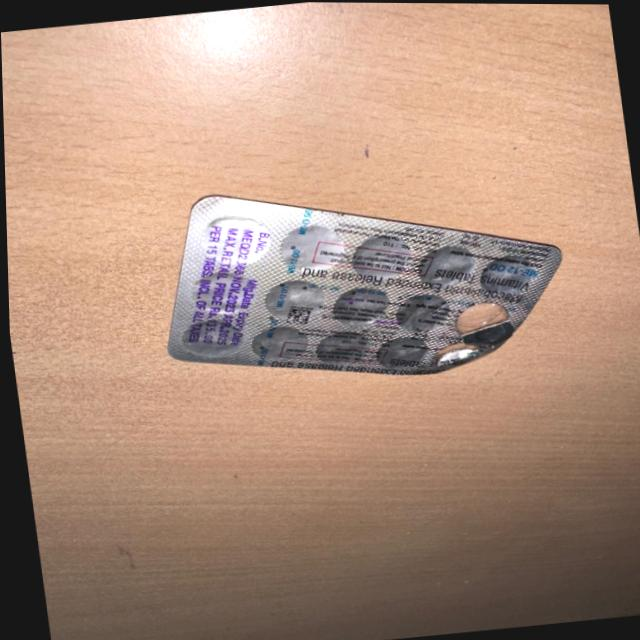medicine: (127, 182, 590, 401)
